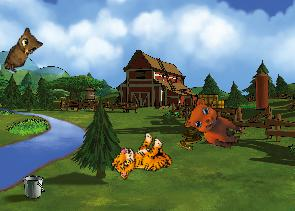bear: (181, 95, 248, 151)
owl: (2, 25, 46, 79)
tiger: (107, 125, 177, 194)
